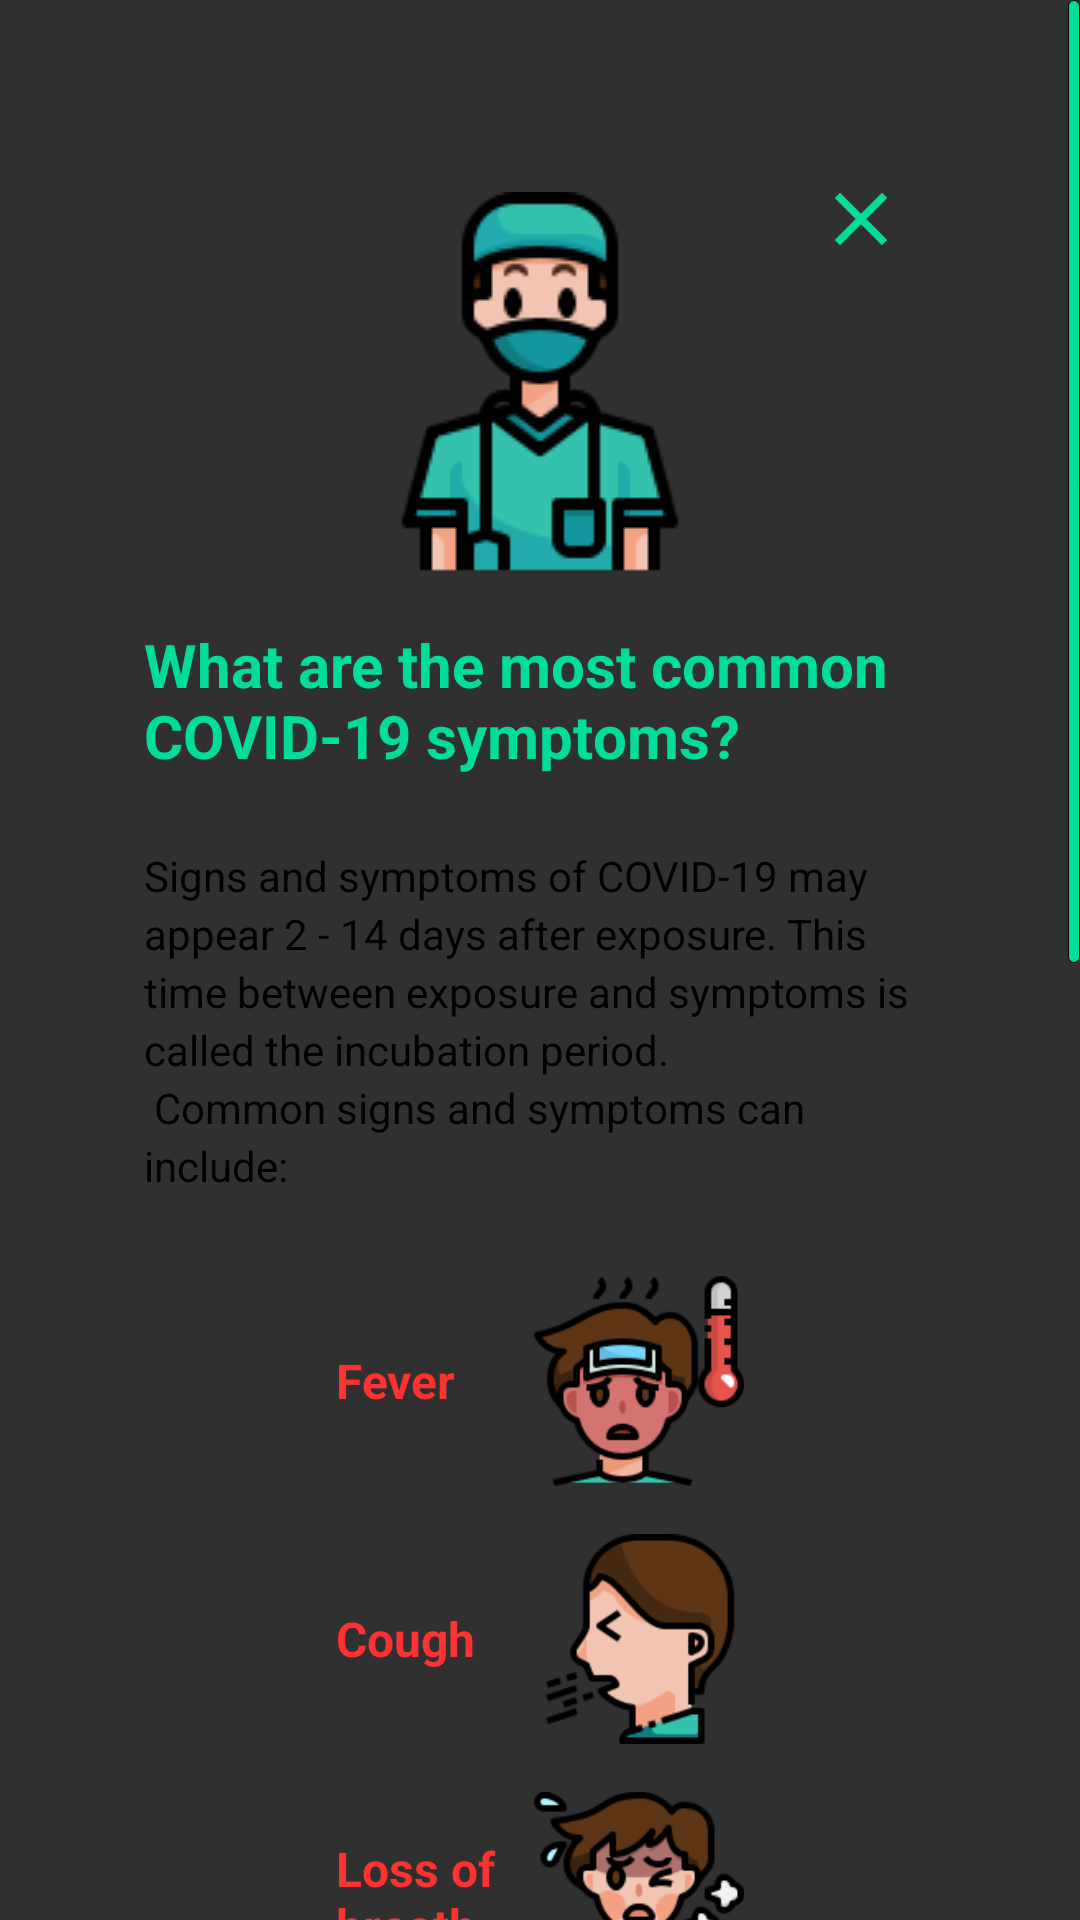

Named icons in this screenshot (1080px×1920px) and their bounding boxes, [x1, y1, x2, y2]:
close: [835, 193, 887, 245]
